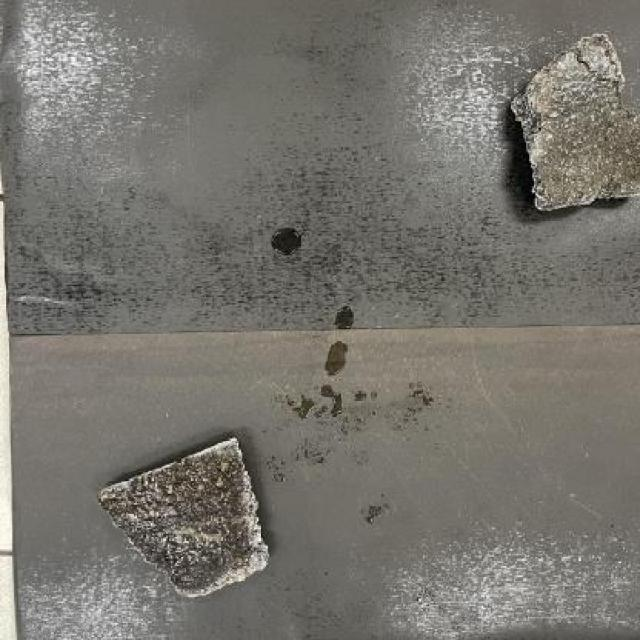Road Debris: (102, 449, 260, 580), (526, 35, 628, 216)
